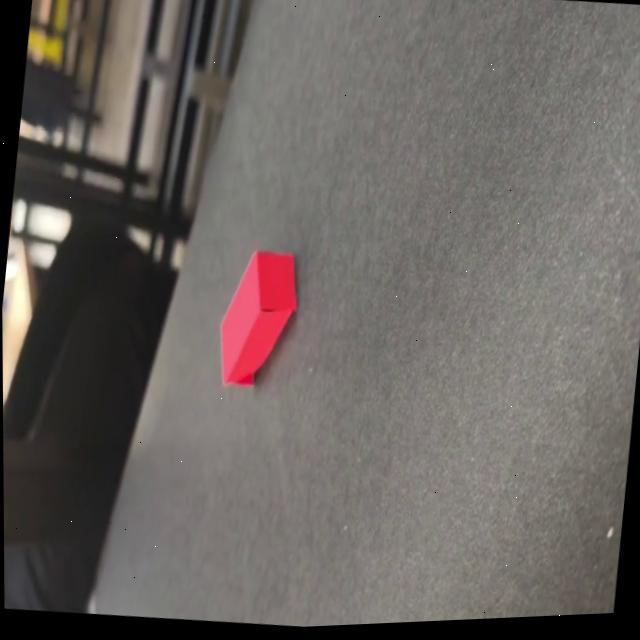red block: (211, 241, 303, 390)
